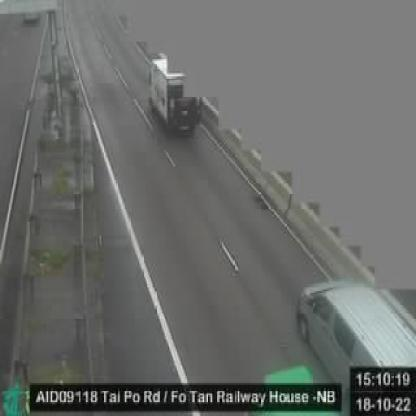Car: (297, 278, 416, 387)
Truck: (146, 57, 206, 139)
